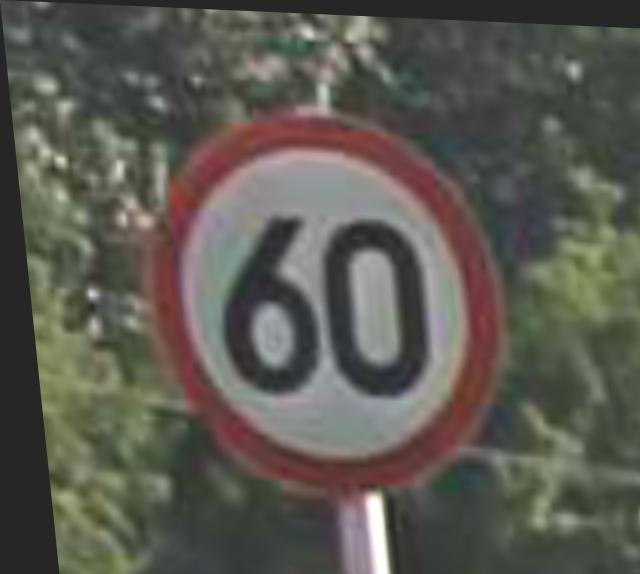limit60: (118, 101, 513, 489)
